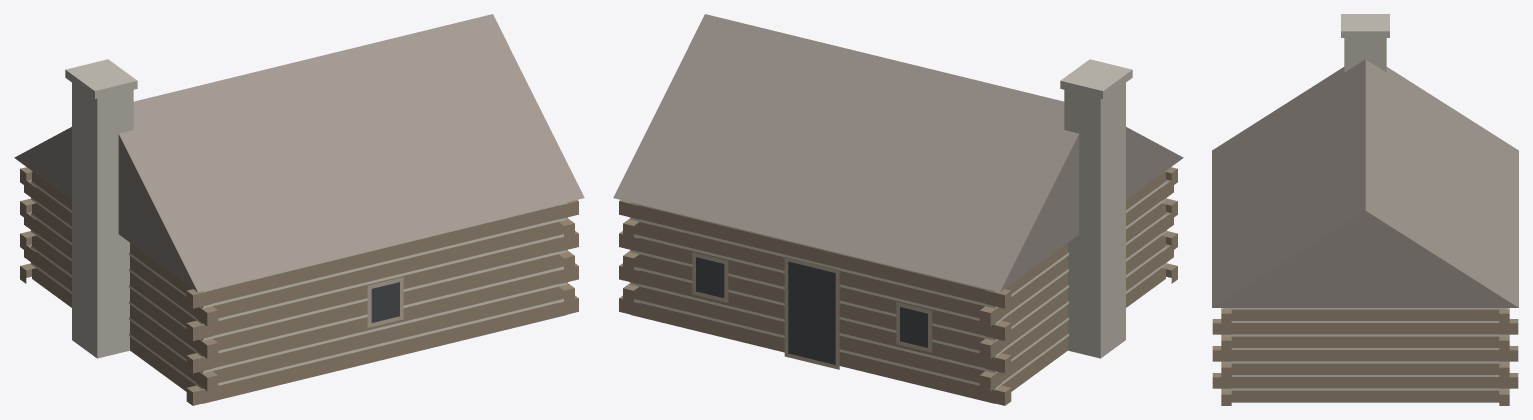
Rendered from james_kinzie_house__dwelling_1830.glb.
3 renders of one model, left to right at view 1: azimuth 30°, elevation 25°; view 2: azimuth 150°, elevation 25°; view 3: azimuth 270°, elevation 25°, orthographic. The views are drawn at different scales.
Visible parts, largest first — view 1: james_kinzie_house__dwelling_1830; view 2: james_kinzie_house__dwelling_1830; view 3: james_kinzie_house__dwelling_1830.
Boxes of the visible parts, left/top/right/bottom form: james_kinzie_house__dwelling_1830: left=14, top=14, right=584, bottom=405; james_kinzie_house__dwelling_1830: left=613, top=14, right=1183, bottom=405; james_kinzie_house__dwelling_1830: left=1212, top=14, right=1518, bottom=405.
Size of the model in its own units: 9.07 by 5.74 by 7.
